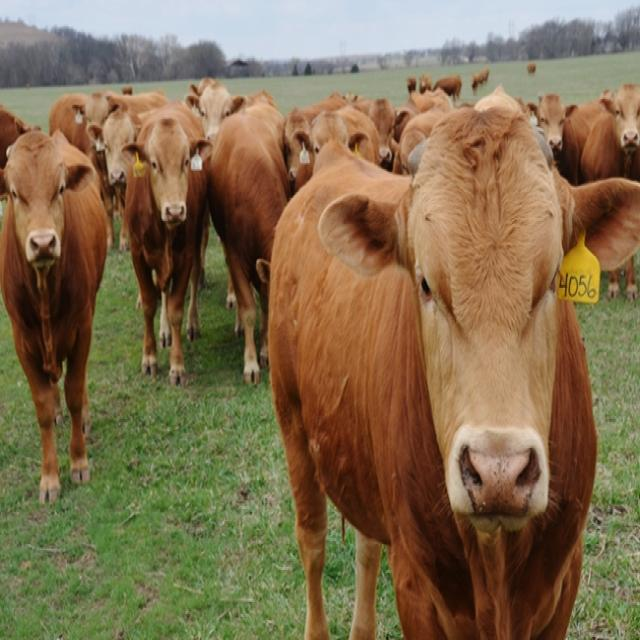cowFace: (320, 87, 638, 542), (4, 124, 103, 292), (119, 101, 217, 242)
